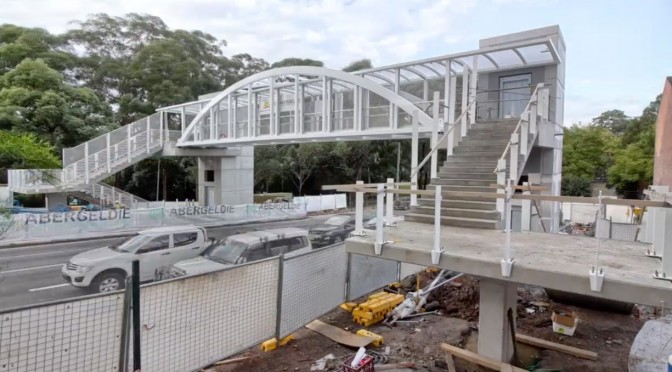bridge: (158, 43, 479, 155)
